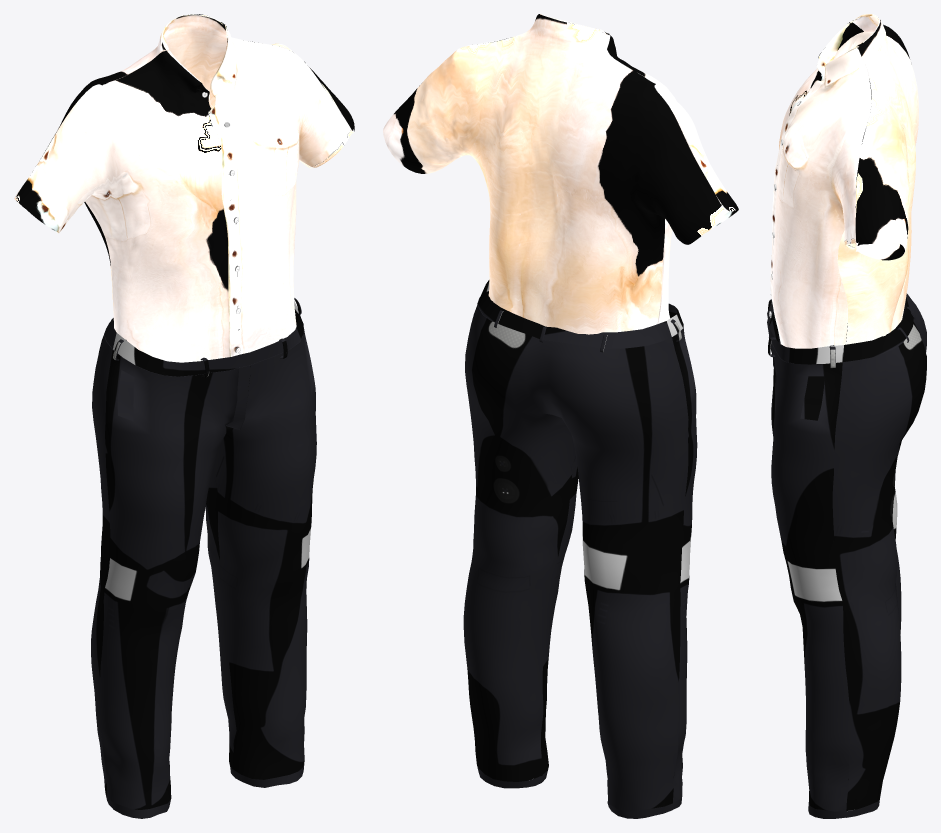
Rendered from short_shirt_trousers.glb.
The picture shows the model from 3 angles, left to right: view 1: azimuth 30°, elevation 25°; view 2: azimuth 150°, elevation 25°; view 3: azimuth 270°, elevation 25°; orthographic projection. The views are drawn at different scales.
Visible parts, largest first — view 1: all; view 2: all; view 3: all.
Boxes of the visible parts, x1,y1,x2,y2 form: all: (14,14,354,818); all: (383,14,738,818); all: (767,14,926,818).
Bounding box in the file's own units: 0.2748 × 0.5968 × 0.1144.
Materials: 3 (2 with a texture image).
